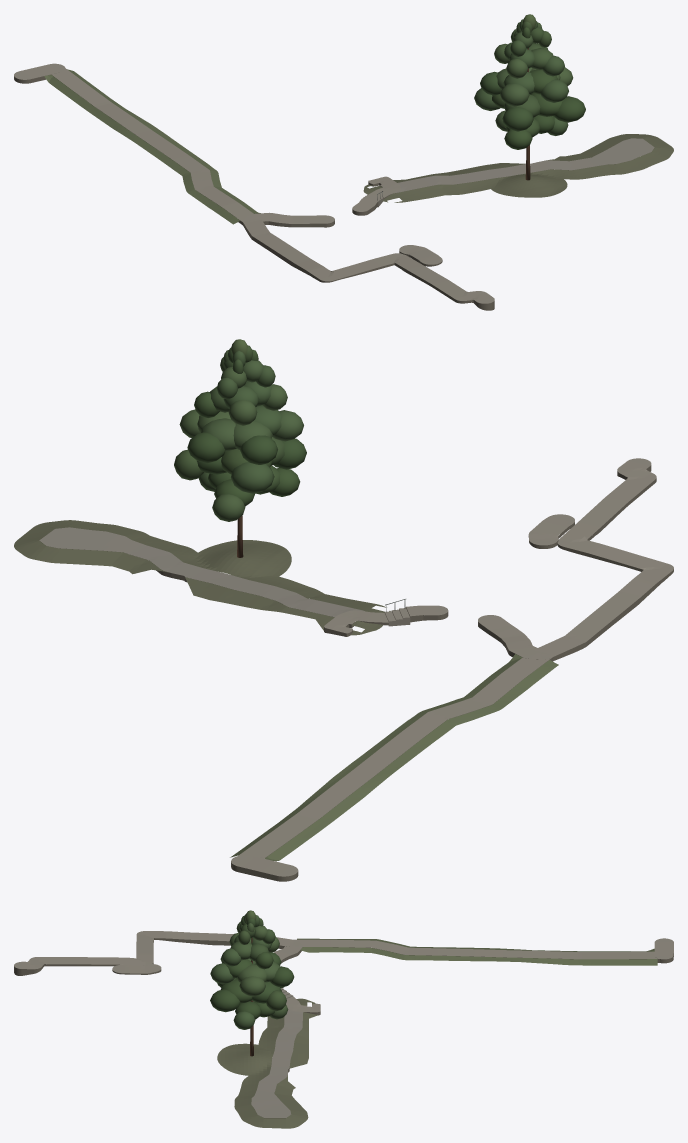
File: site.glb
3 views of the same model, one above another, from view 1: azimuth 30°, elevation 25°; view 2: azimuth 150°, elevation 25°; view 3: azimuth 270°, elevation 25° (orthographic). The views are drawn at different scales.
Visible parts, largest first — view 1: cascade-courtyard-north, science-walk-dawn-redwood, pacific-walk-verge, cascade-north-paving-edges-rail; view 2: cascade-courtyard-north, science-walk-dawn-redwood, pacific-walk-verge, cascade-north-paving-edges-rail; view 3: cascade-courtyard-north, science-walk-dawn-redwood, pacific-walk-verge, cascade-north-paving-edges-rail.
Boxes of the visible parts, <box> form: cascade-courtyard-north: <box>14,63,673,303</box>; science-walk-dawn-redwood: <box>474,14,585,180</box>; pacific-walk-verge: <box>44,69,260,224</box>; cascade-north-paving-edges-rail: <box>14,74,494,310</box>; cascade-courtyard-north: <box>14,458,673,876</box>; science-walk-dawn-redwood: <box>174,339,306,557</box>; pacific-walk-verge: <box>230,654,558,861</box>; cascade-north-paving-edges-rail: <box>231,465,673,881</box>; cascade-courtyard-north: <box>14,931,673,1128</box>; science-walk-dawn-redwood: <box>210,910,294,1056</box>; pacific-walk-verge: <box>297,938,657,965</box>; cascade-north-paving-edges-rail: <box>14,938,673,1015</box>.
Bounding box in the file's own units: 60.19 × 23.57 × 91.45.
